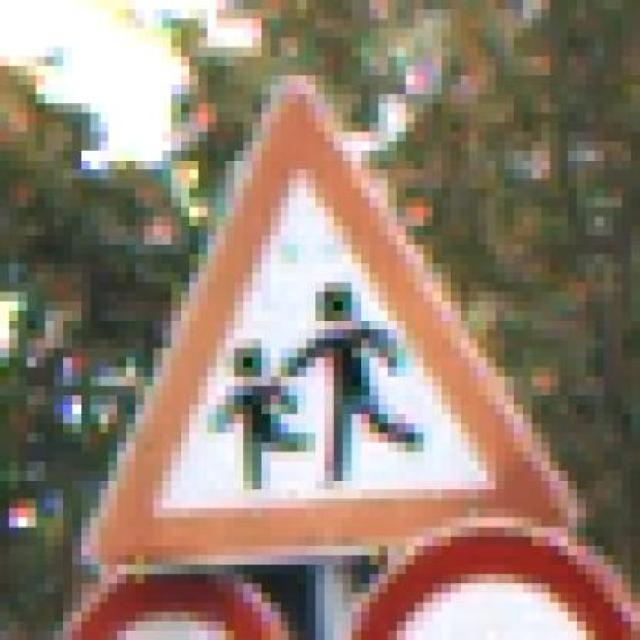Beware of children: (72, 66, 603, 565)
